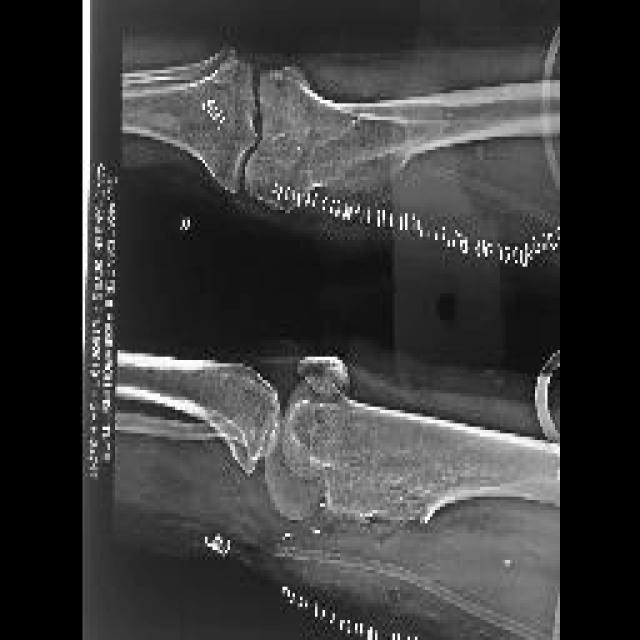bone-cancer: (315, 443, 476, 524), (300, 100, 420, 203)
